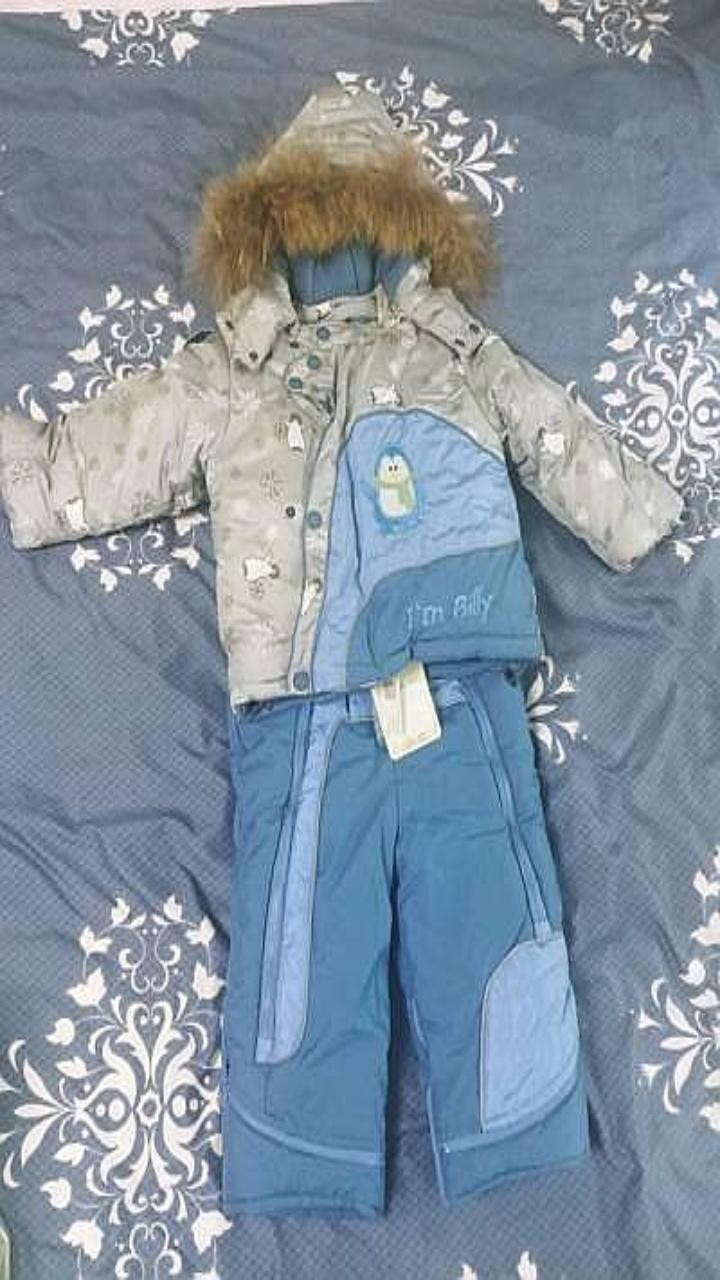Coat: (0, 85, 681, 703)
